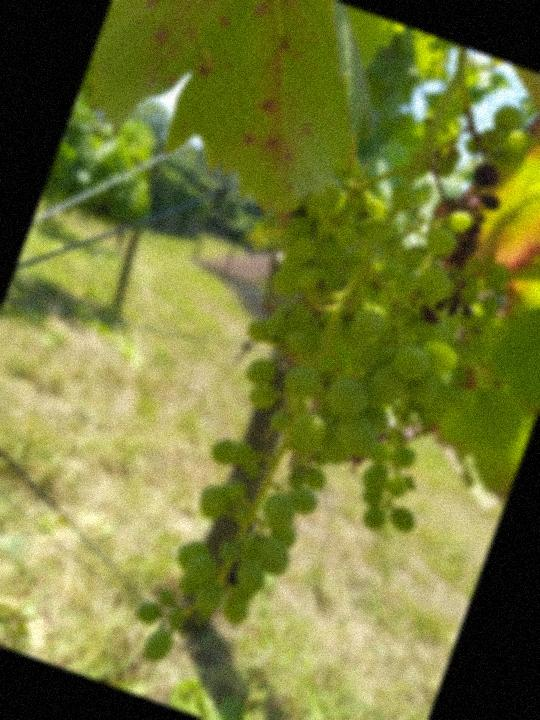grape: (118, 142, 513, 720), (397, 146, 530, 344)
